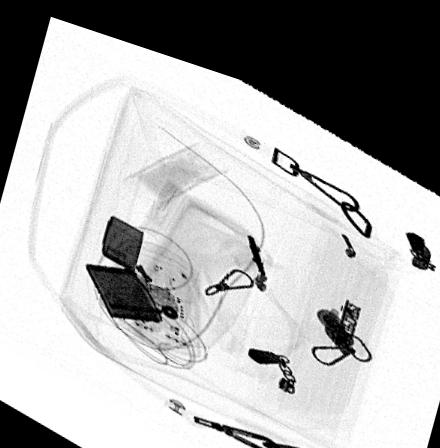Lighter: (84, 205, 181, 311)
